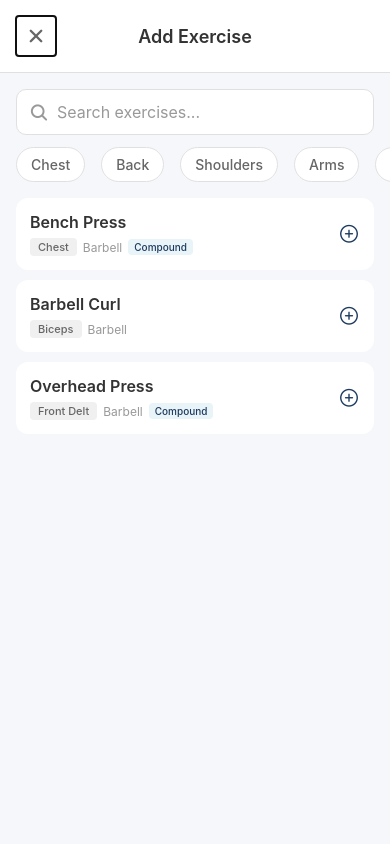
ExercisePickerModal › filters by search query
The width and height of the screenshot is (390, 844).
Expected: the text "Bench Press" is shown, [30, 212, 126, 232]
Step 1. Type "curl" into the field with placeholder "Search exercises..." → (205, 112), box [49, 90, 361, 134]
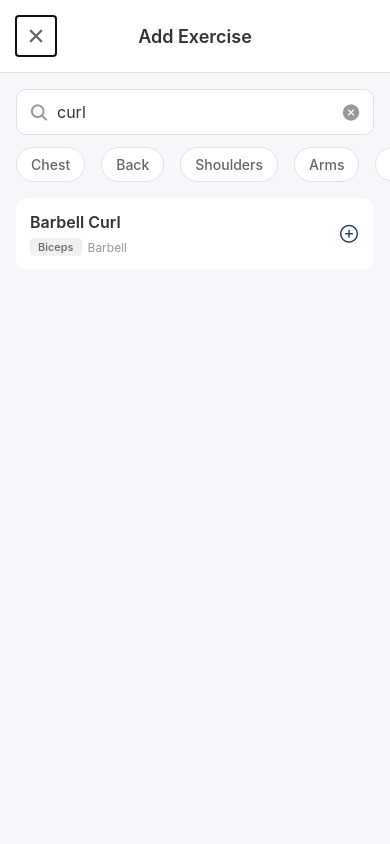
Expected: the text "Barbell Curl" is shown, [30, 212, 121, 232]
Result: the text "Bench Press" is gone
Result: the text "Overhead Press" is gone
